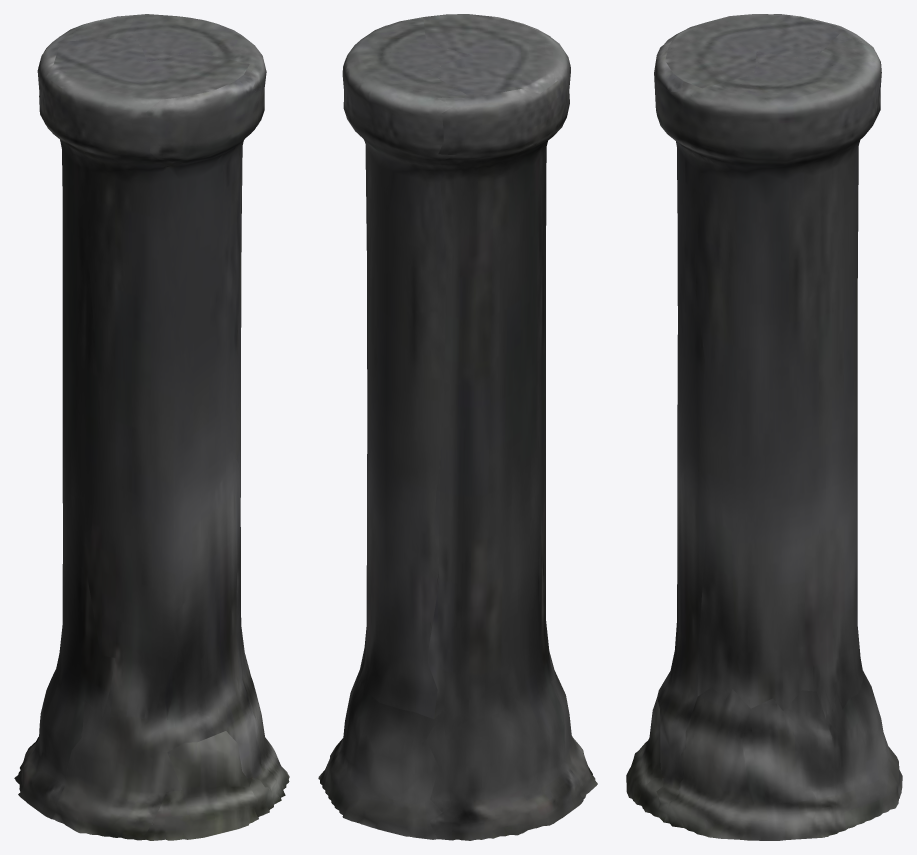
Rendered from trench-column-1.glb.
The picture shows the model from 3 angles, left to right: view 1: azimuth 30°, elevation 25°; view 2: azimuth 150°, elevation 25°; view 3: azimuth 270°, elevation 25°; orthographic projection.
Parts seen in each view (by area): view 1: Trench_Column_Round_1; view 2: Trench_Column_Round_1; view 3: Trench_Column_Round_1.
Part boxes in pixels (x1,y1,x2,y2): Trench_Column_Round_1: [14, 14, 289, 840]; Trench_Column_Round_1: [318, 14, 597, 840]; Trench_Column_Round_1: [626, 14, 902, 840].
Size of the model in its own units: 1.3 by 3.9 by 1.34.
1 material, 1 textured.
